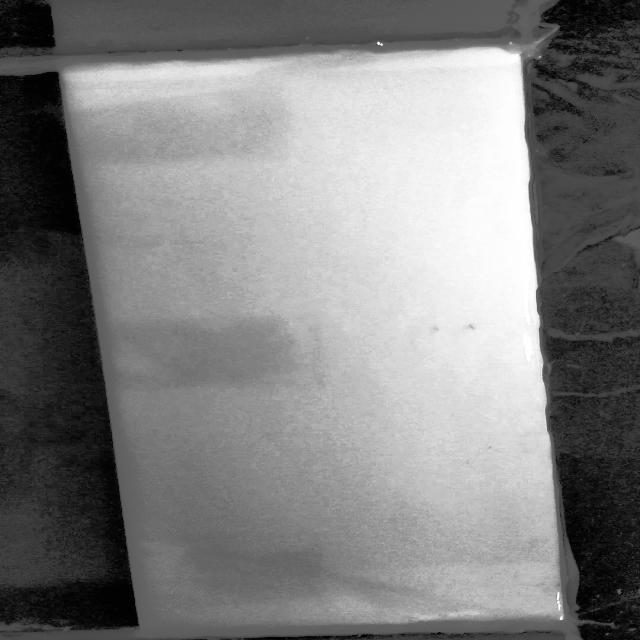shrimp: (456, 322, 484, 335), (420, 321, 444, 334)
